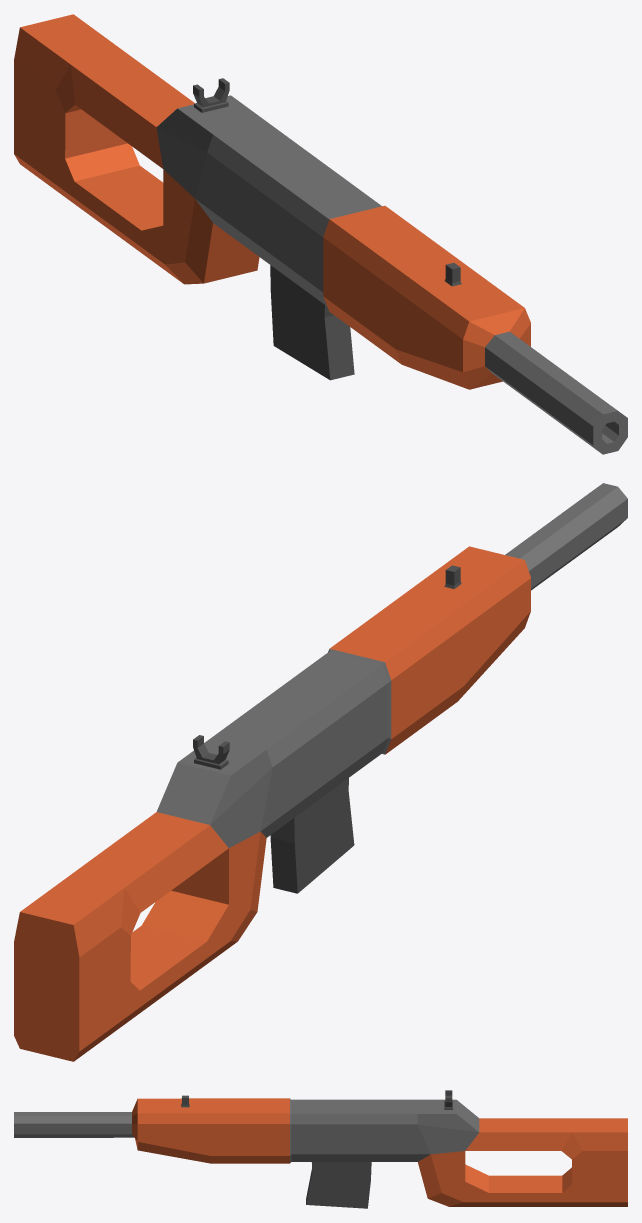
Rendered from weapon_sn0 - svd.fbx.
The picture shows the model from 3 angles, top to bottom: view 1: azimuth 30°, elevation 25°; view 2: azimuth 150°, elevation 25°; view 3: azimuth 270°, elevation 25°; orthographic projection. The views are drawn at different scales.
Parts seen in each view (by area): view 1: sn0.main, sn0.magazine, sn0.sight-b; view 2: sn0.main, sn0.magazine, sn0.sight-b; view 3: sn0.main, sn0.magazine.
Part boxes in pixels (x1,y1,x2,y2): sn0.main: [14, 14, 627, 454]; sn0.magazine: [270, 265, 354, 380]; sn0.sight-b: [193, 78, 229, 112]; sn0.main: [14, 483, 627, 1061]; sn0.magazine: [270, 778, 354, 893]; sn0.sight-b: [193, 735, 229, 769]; sn0.main: [14, 1098, 627, 1206]; sn0.magazine: [306, 1162, 371, 1208].
Bounding box in the file's own units: 33.27 × 95.42 × 477.
